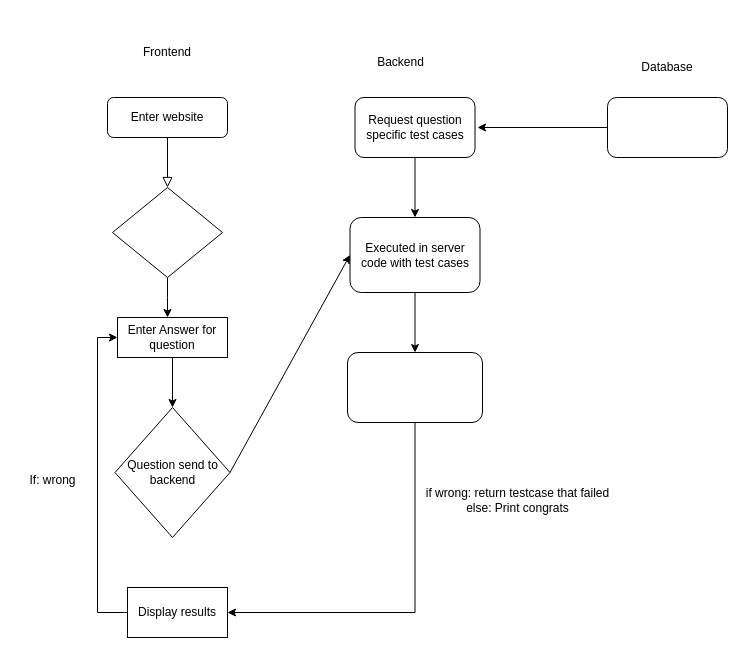
The diagram is 745 pixels wide and 655 high, and some of its shapes have lost their labels. The centre of each missing label's shape, as x and y in pixels:
Compare test case answers with results from execution: pixel 414 387
Query specific test case: pixel 667 127
Question is presented: pixel 167 232
